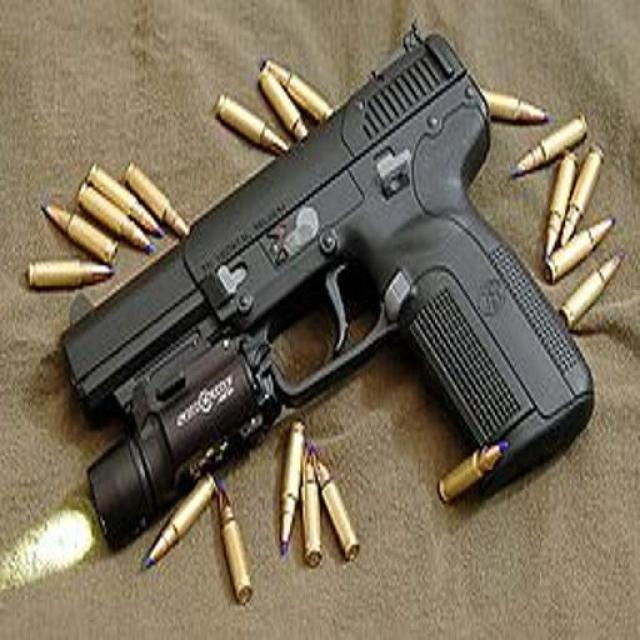pistol: (44, 16, 589, 490)
